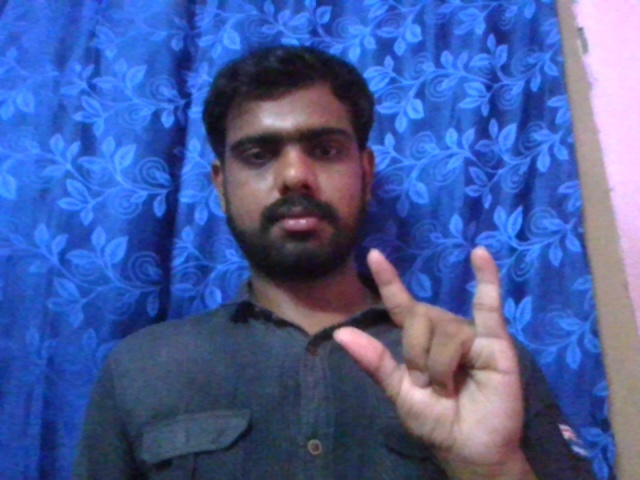IloveYou: (329, 232, 533, 462)
